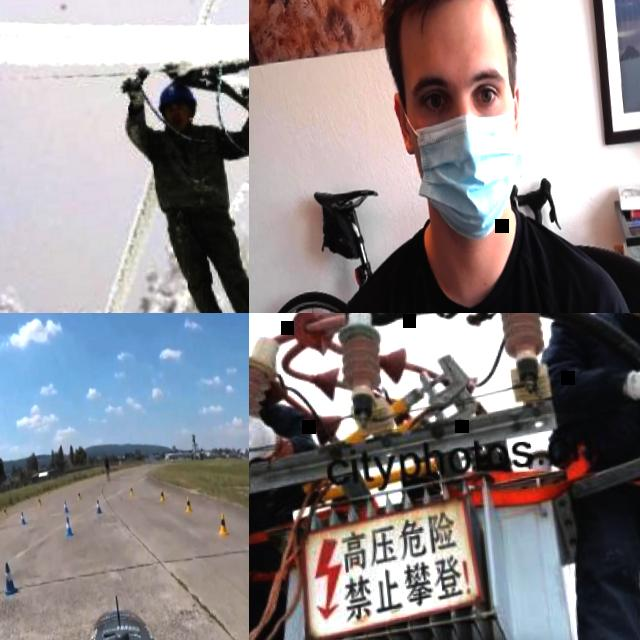Hardhat: (153, 78, 200, 114)
Mask: (392, 83, 530, 249)
NO-Mask: (166, 115, 192, 134)
NO-Safety Vest: (338, 206, 616, 313), (564, 313, 640, 503), (249, 405, 310, 566), (151, 125, 231, 219), (104, 458, 108, 469)
Person: (275, 0, 640, 313), (522, 313, 640, 640), (120, 66, 249, 313), (249, 313, 342, 640), (103, 453, 111, 480)
Safety Cone: (2, 562, 20, 598), (216, 512, 228, 536), (63, 514, 74, 539), (182, 493, 192, 514), (94, 497, 102, 515), (61, 498, 70, 514), (19, 510, 27, 527), (158, 487, 166, 502), (2, 503, 8, 516), (76, 489, 82, 500), (37, 495, 42, 507), (129, 485, 134, 496)
vehicle: (0, 574, 249, 640)
